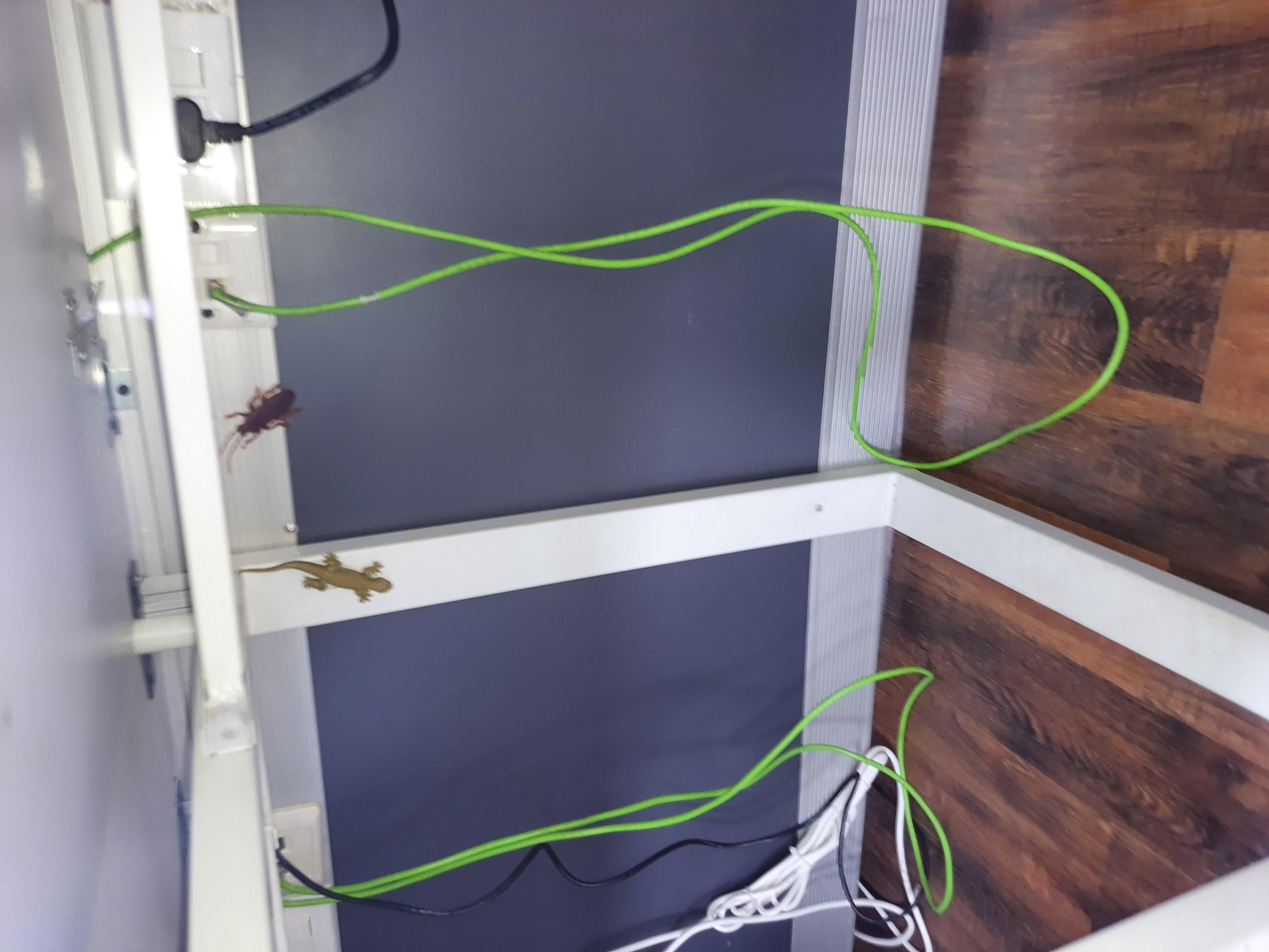cockroach: (622, 163, 766, 232)
lizard: (454, 177, 536, 296)
